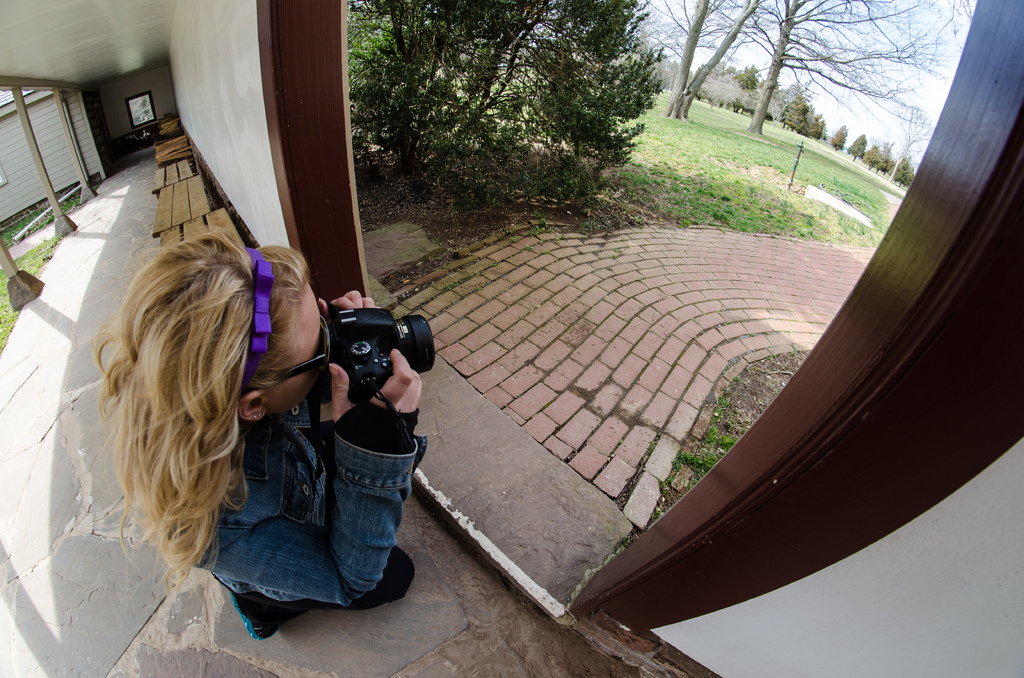Human_hand: (339, 359, 419, 446), (317, 289, 381, 328)
